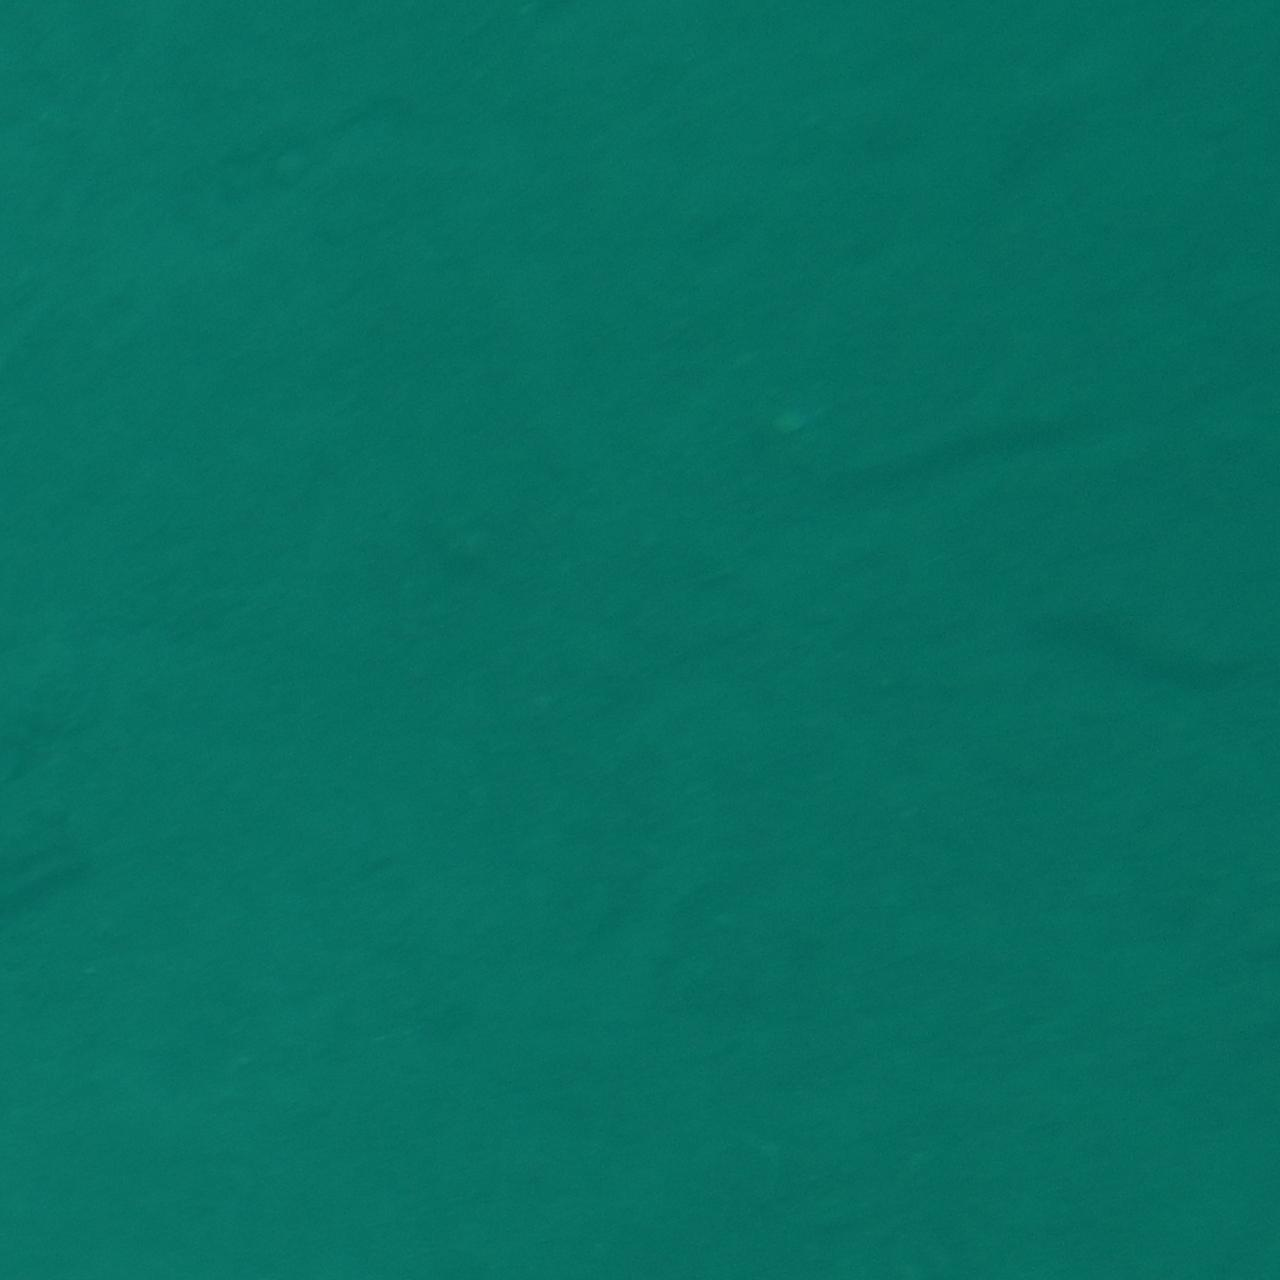Holothuria tubulosa: (996, 585, 1270, 695)
